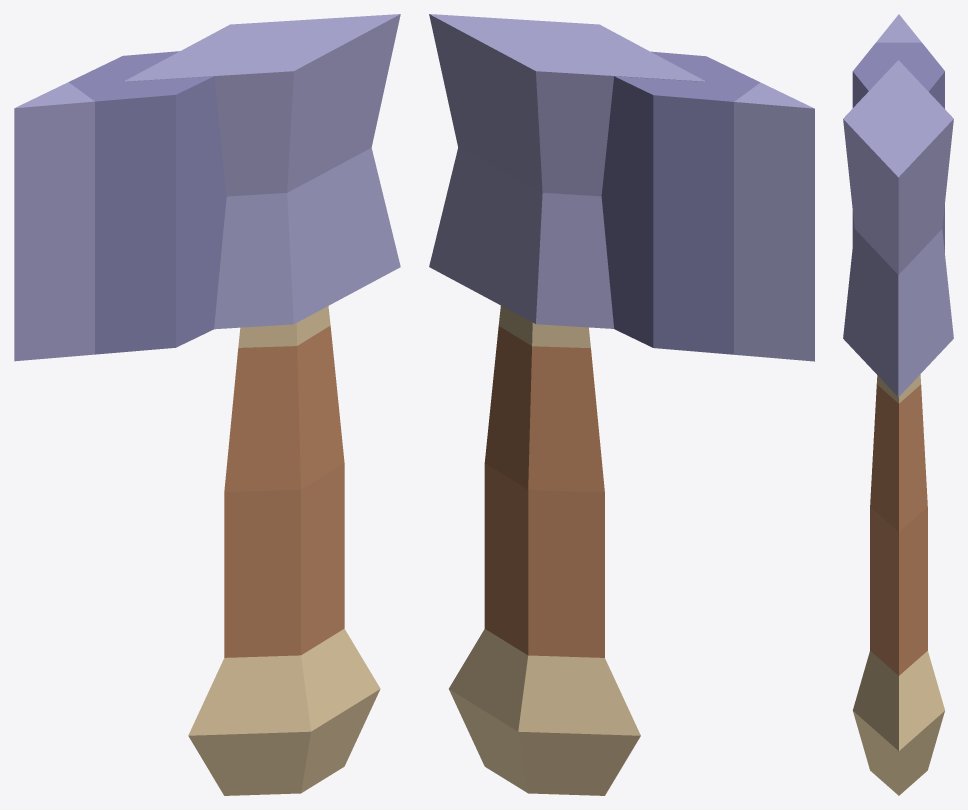
File: Axe.glb
3 views of the same model, side by side, from view 1: azimuth 30°, elevation 25°; view 2: azimuth 150°, elevation 25°; view 3: azimuth 270°, elevation 25° (orthographic). The views are drawn at different scales.
Parts seen in each view (by area): view 1: mergedBlocks(Clone); view 2: mergedBlocks(Clone); view 3: mergedBlocks(Clone).
Part boxes in pixels (<box>): mergedBlocks(Clone): <box>14,14,400,795</box>; mergedBlocks(Clone): <box>429,14,814,795</box>; mergedBlocks(Clone): <box>843,14,953,795</box>.
Size of the model in its own units: 0.7986 by 1.46 by 0.2285.
